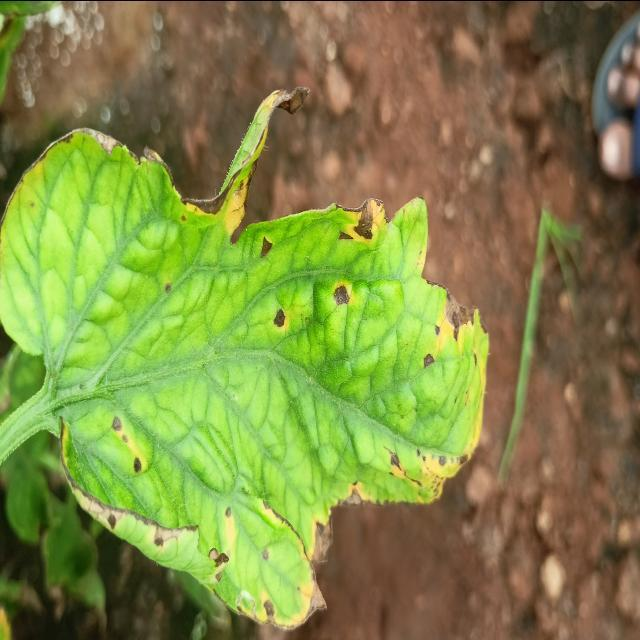Tomato mosaic virus leaf: (55, 76, 496, 640)
